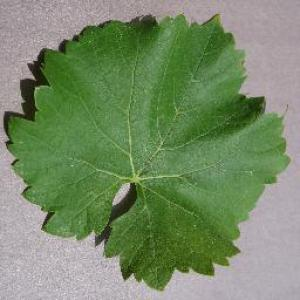Folha: (2, 11, 291, 290)
